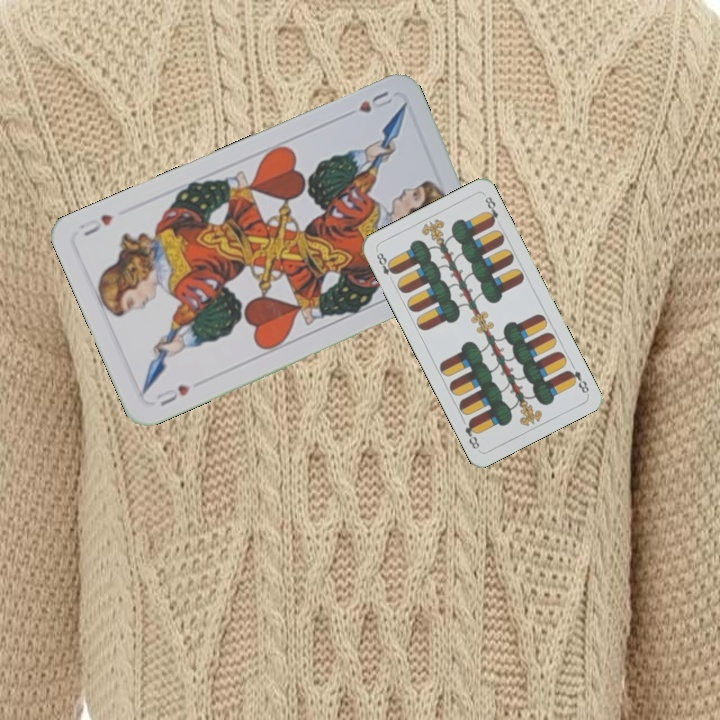E8: (372, 247, 399, 285), (563, 366, 592, 396)
HU: (152, 380, 193, 409), (354, 87, 395, 116)
